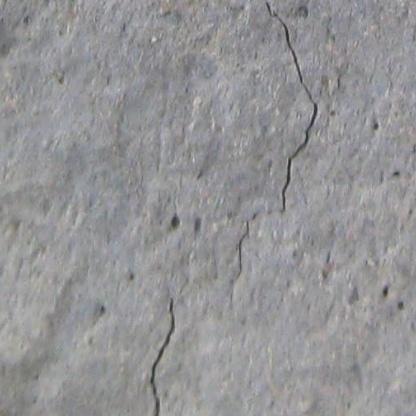Cracks: (240, 0, 324, 216), (143, 294, 179, 416), (227, 211, 261, 289)
